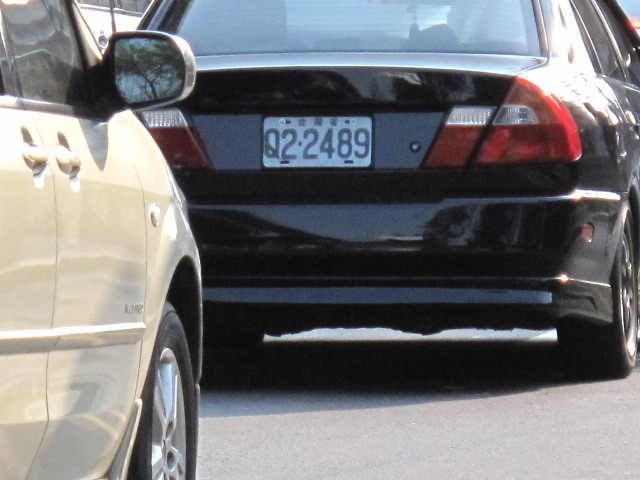plate: (260, 113, 375, 169)
